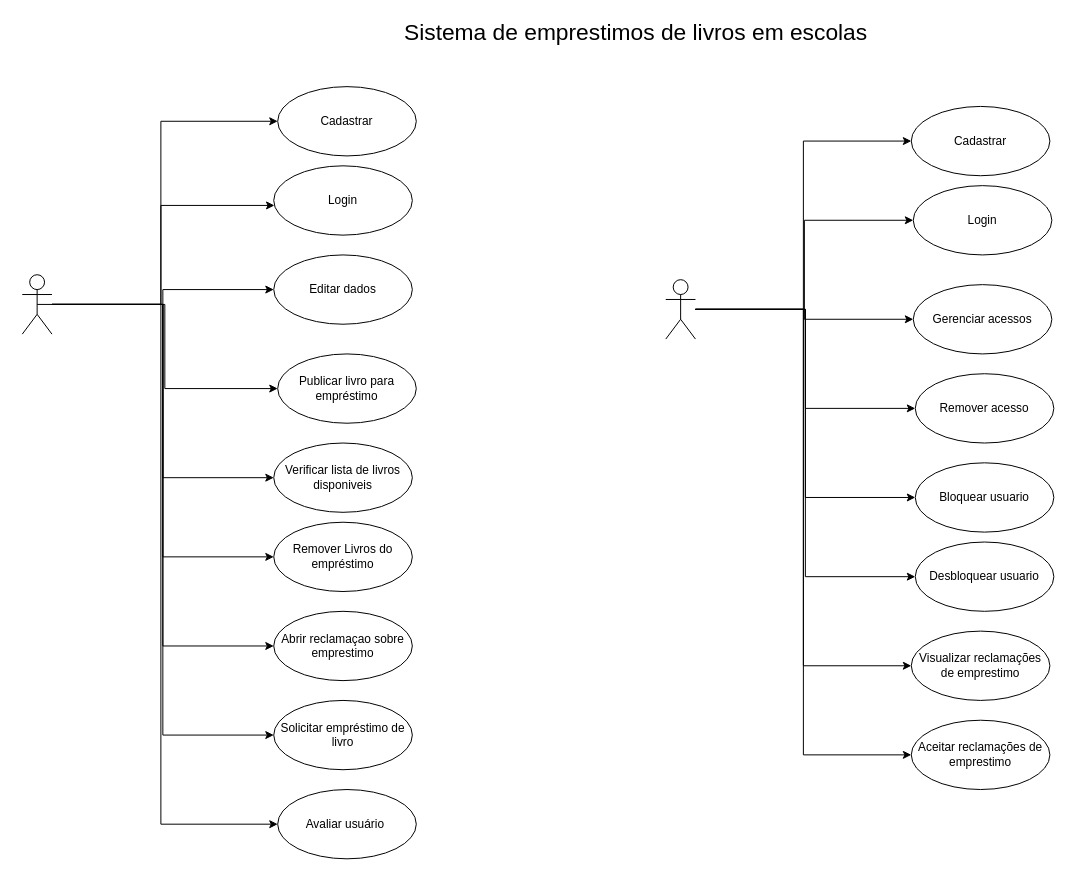
The diagram is 1071 pixels wide and 876 high, and some of its shapes have lost their labels. Here are the shapes that lost their labels. From the top down, the centre of each, then its label:
At pixel 36 304: "Usuario".
At pixel 680 309: "Administrador".
